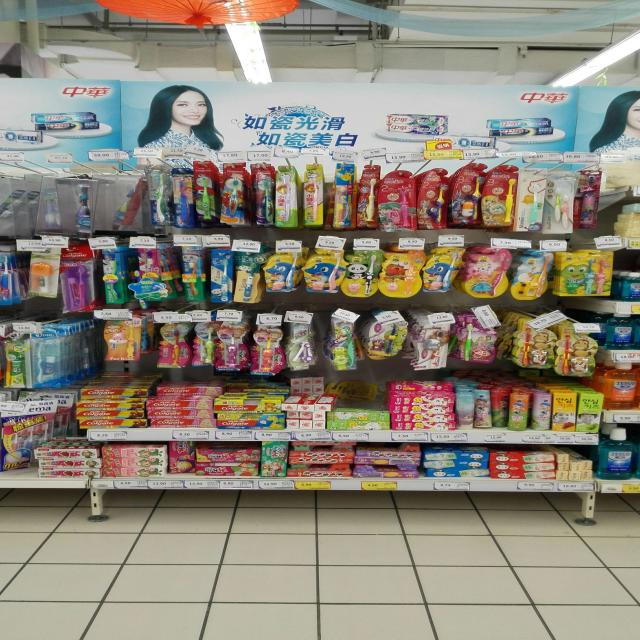unorganised: (475, 392, 529, 431), (543, 169, 574, 235), (575, 169, 602, 232), (282, 393, 335, 414), (168, 441, 197, 478), (151, 389, 224, 399), (79, 389, 148, 399)
